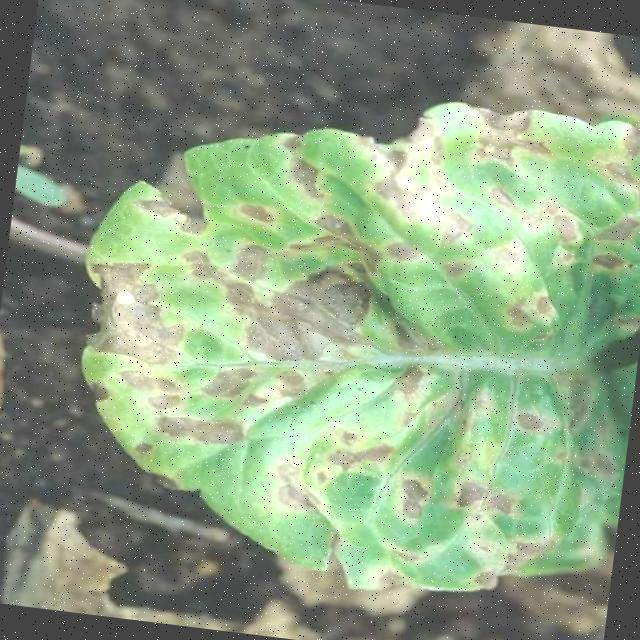Septoria_Blight: (71, 59, 640, 610)
